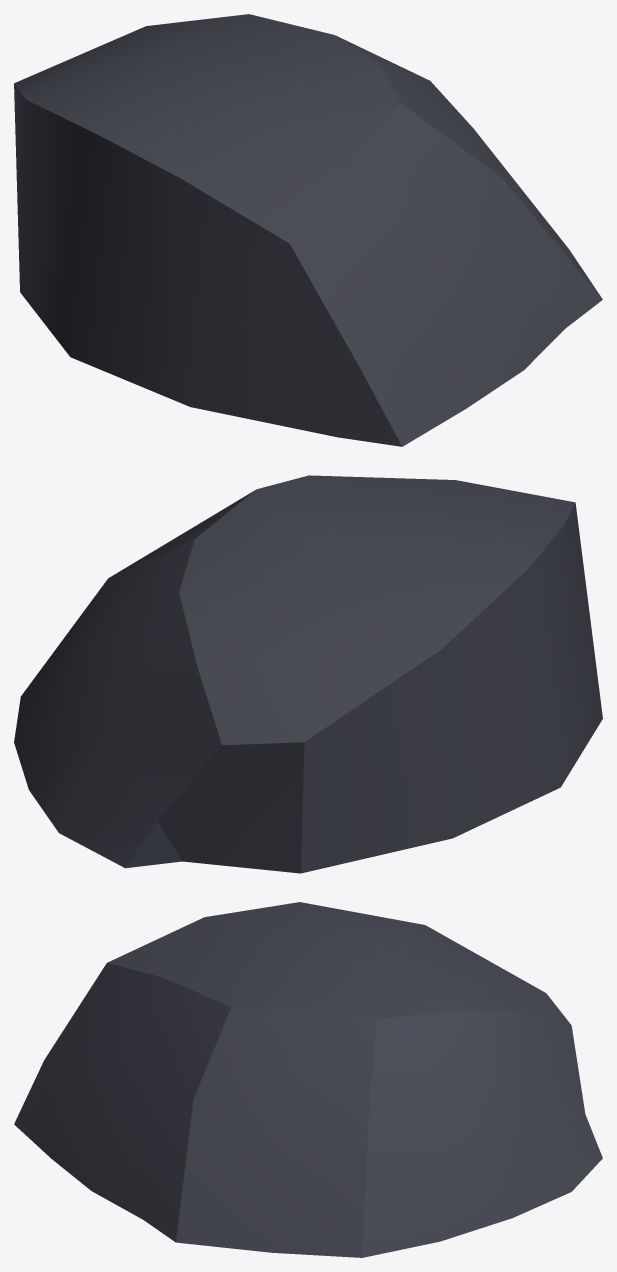
Rendered from Rock_03.fbx.
3 views of the same model, one above another, from view 1: azimuth 30°, elevation 25°; view 2: azimuth 150°, elevation 25°; view 3: azimuth 270°, elevation 25° (orthographic). The views are drawn at different scales.
Parts seen in each view (by area): view 1: Rock_03; view 2: Rock_03; view 3: Rock_03.
Part boxes in pixels (<box>): Rock_03: <box>14,14,602,446</box>; Rock_03: <box>14,475,602,873</box>; Rock_03: <box>14,902,602,1257</box>.
Size of the model in its own units: 3256 by 1429 by 4152.
Materials: 1 (1 with a texture image).
